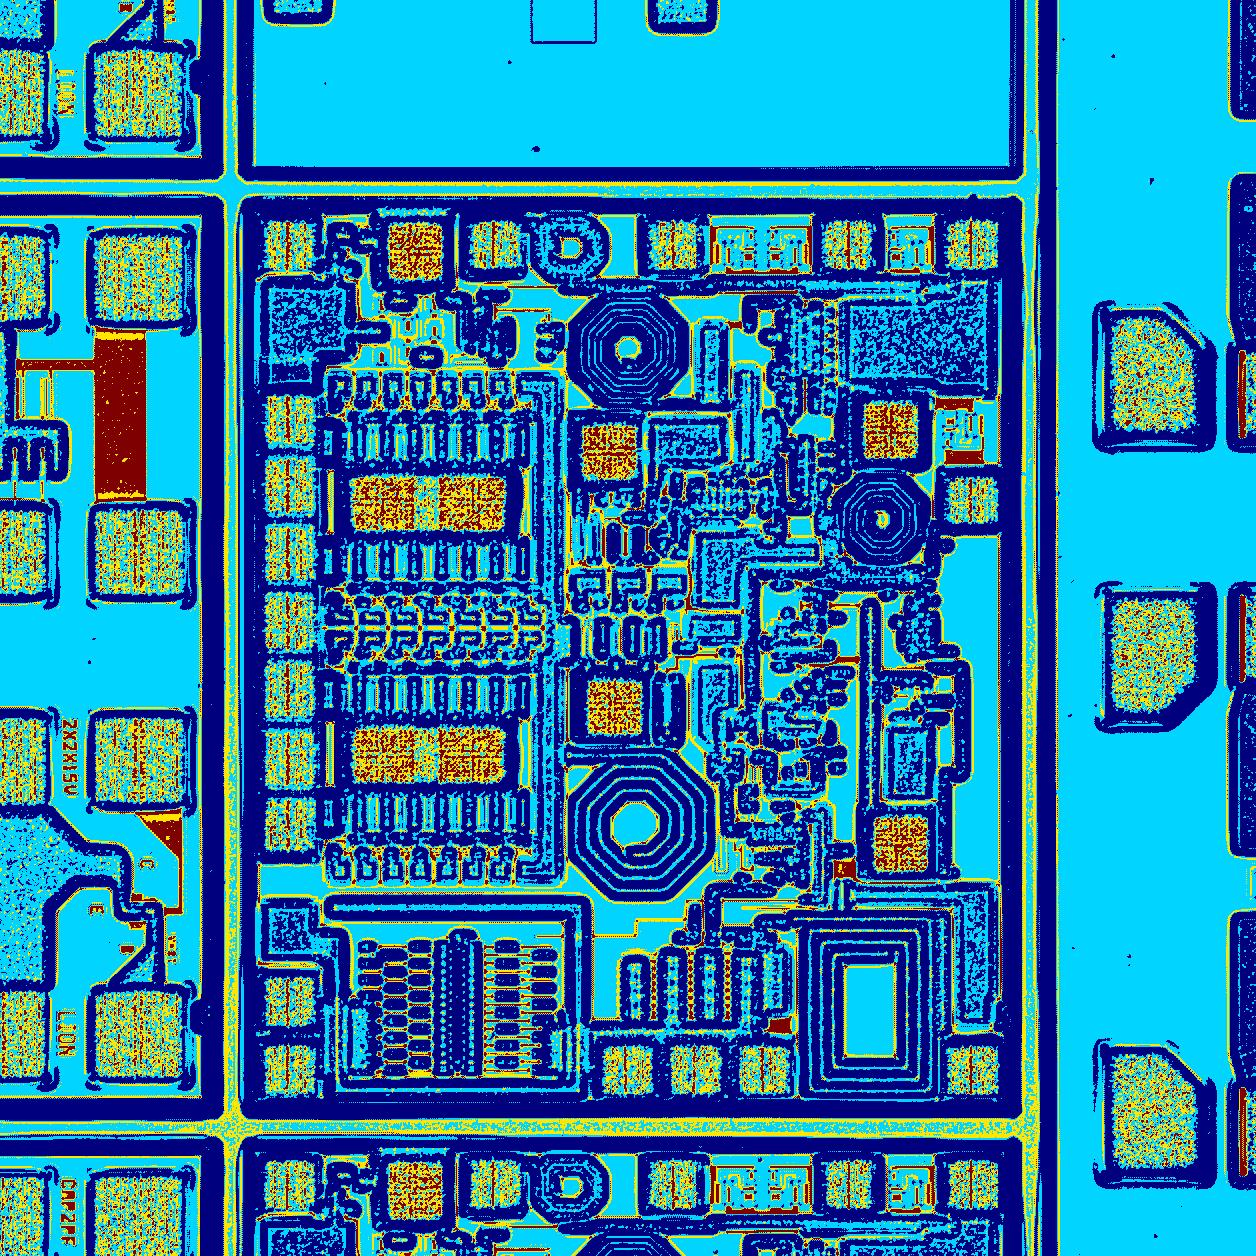Die: (238, 194, 1027, 1120)
Pad 1: (350, 723, 421, 784), (438, 723, 506, 784), (350, 473, 416, 533), (437, 473, 504, 531), (581, 422, 638, 481), (585, 677, 642, 737), (872, 814, 928, 873), (386, 221, 442, 281), (863, 400, 918, 459)
Pad 2: (263, 592, 316, 653), (265, 522, 316, 584), (265, 454, 315, 516), (266, 729, 316, 790), (266, 660, 315, 722), (945, 219, 1000, 270), (263, 1046, 316, 1097), (265, 395, 315, 449), (740, 1044, 791, 1096), (602, 1046, 654, 1096), (648, 219, 700, 269), (266, 798, 315, 852), (263, 220, 315, 270), (263, 977, 314, 1027), (948, 1046, 1000, 1095), (821, 220, 873, 269), (671, 1044, 721, 1094), (950, 477, 998, 524)
Pad 3: (654, 0, 709, 24)
